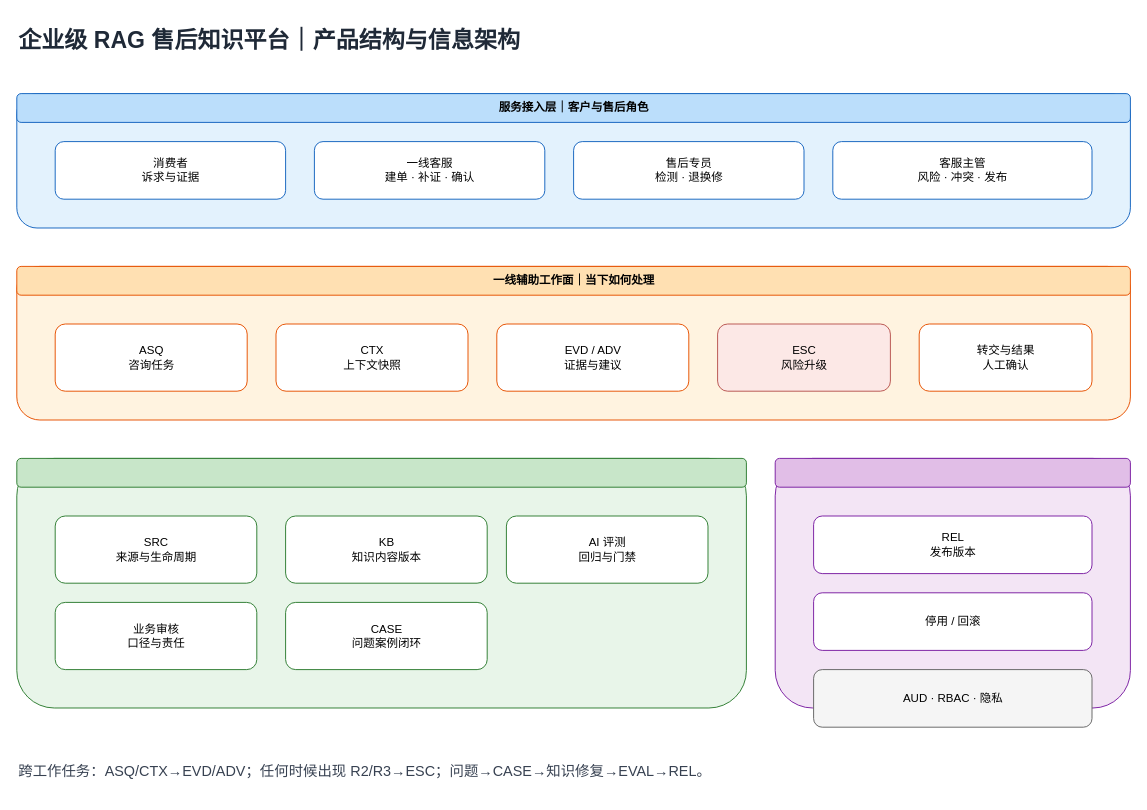
This 1147x810 diagram has some shape labels left out. The box of each missing label's shape, as (x1, y1, x2, y2) in pixels:
发布与治理｜变更如何生效: (774, 457, 1130, 487)
知识治理工作面｜为什么可处理: (16, 457, 746, 487)
